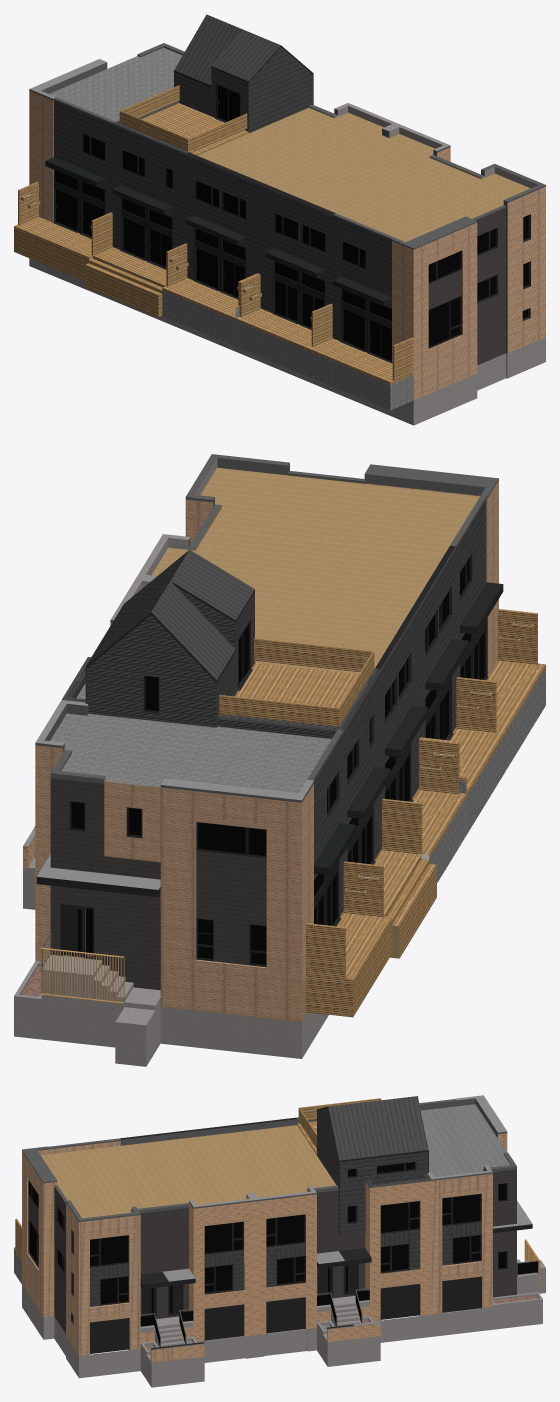
The picture shows the model from 3 angles, top to bottom: view 1: azimuth 30°, elevation 25°; view 2: azimuth 150°, elevation 25°; view 3: azimuth 270°, elevation 25°; orthographic projection. The views are drawn at different scales.
Parts seen in each view (by area): view 1: Object005; view 2: Object005; view 3: Object005.
Part boxes in pixels (<box>): Object005: <box>14,14,545,425</box>; Object005: <box>14,454,545,1066</box>; Object005: <box>14,1095,545,1387</box>.
Bounding box in the file's own units: 838 × 583 × 1292.
Materials: 31 (25 with a texture image).
